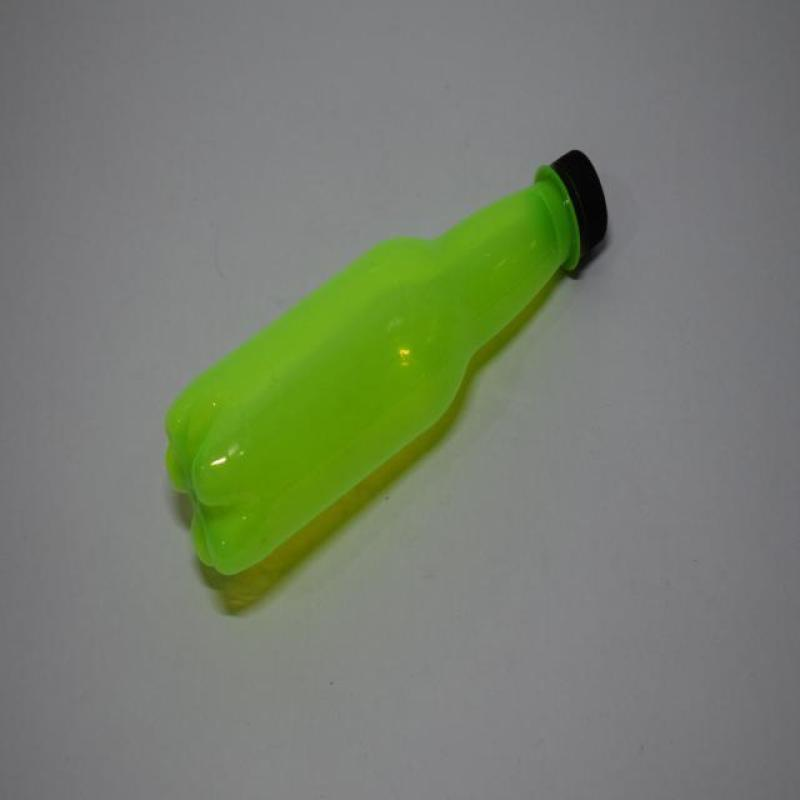botella: (162, 149, 608, 587)
